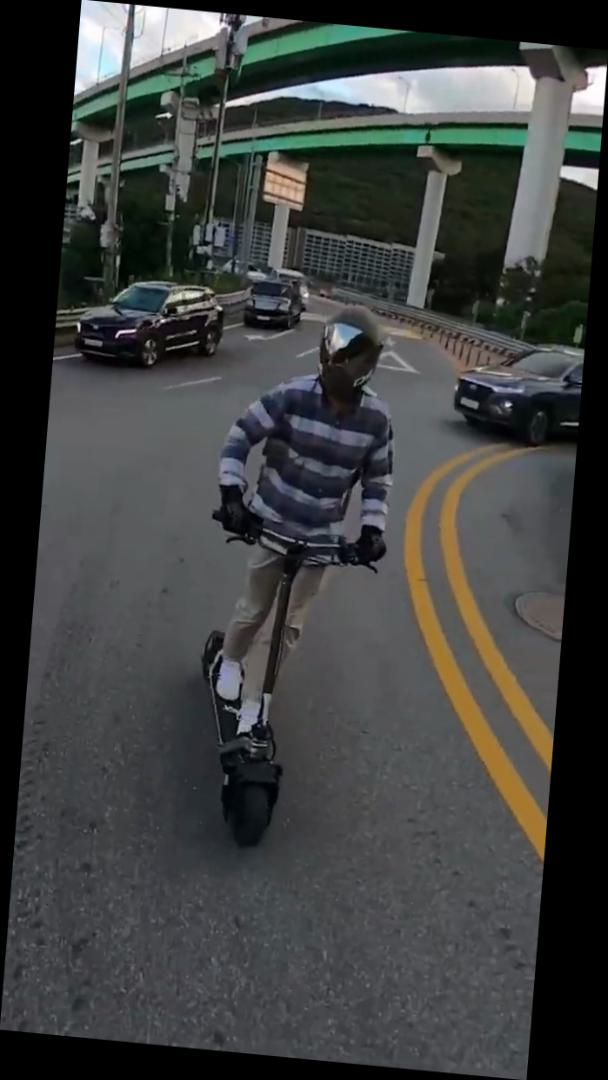helmet: (182, 290, 411, 857)
